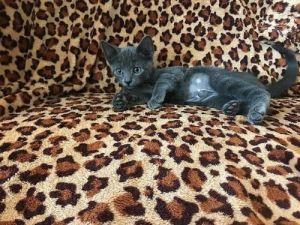rblue: (92, 25, 164, 101)
